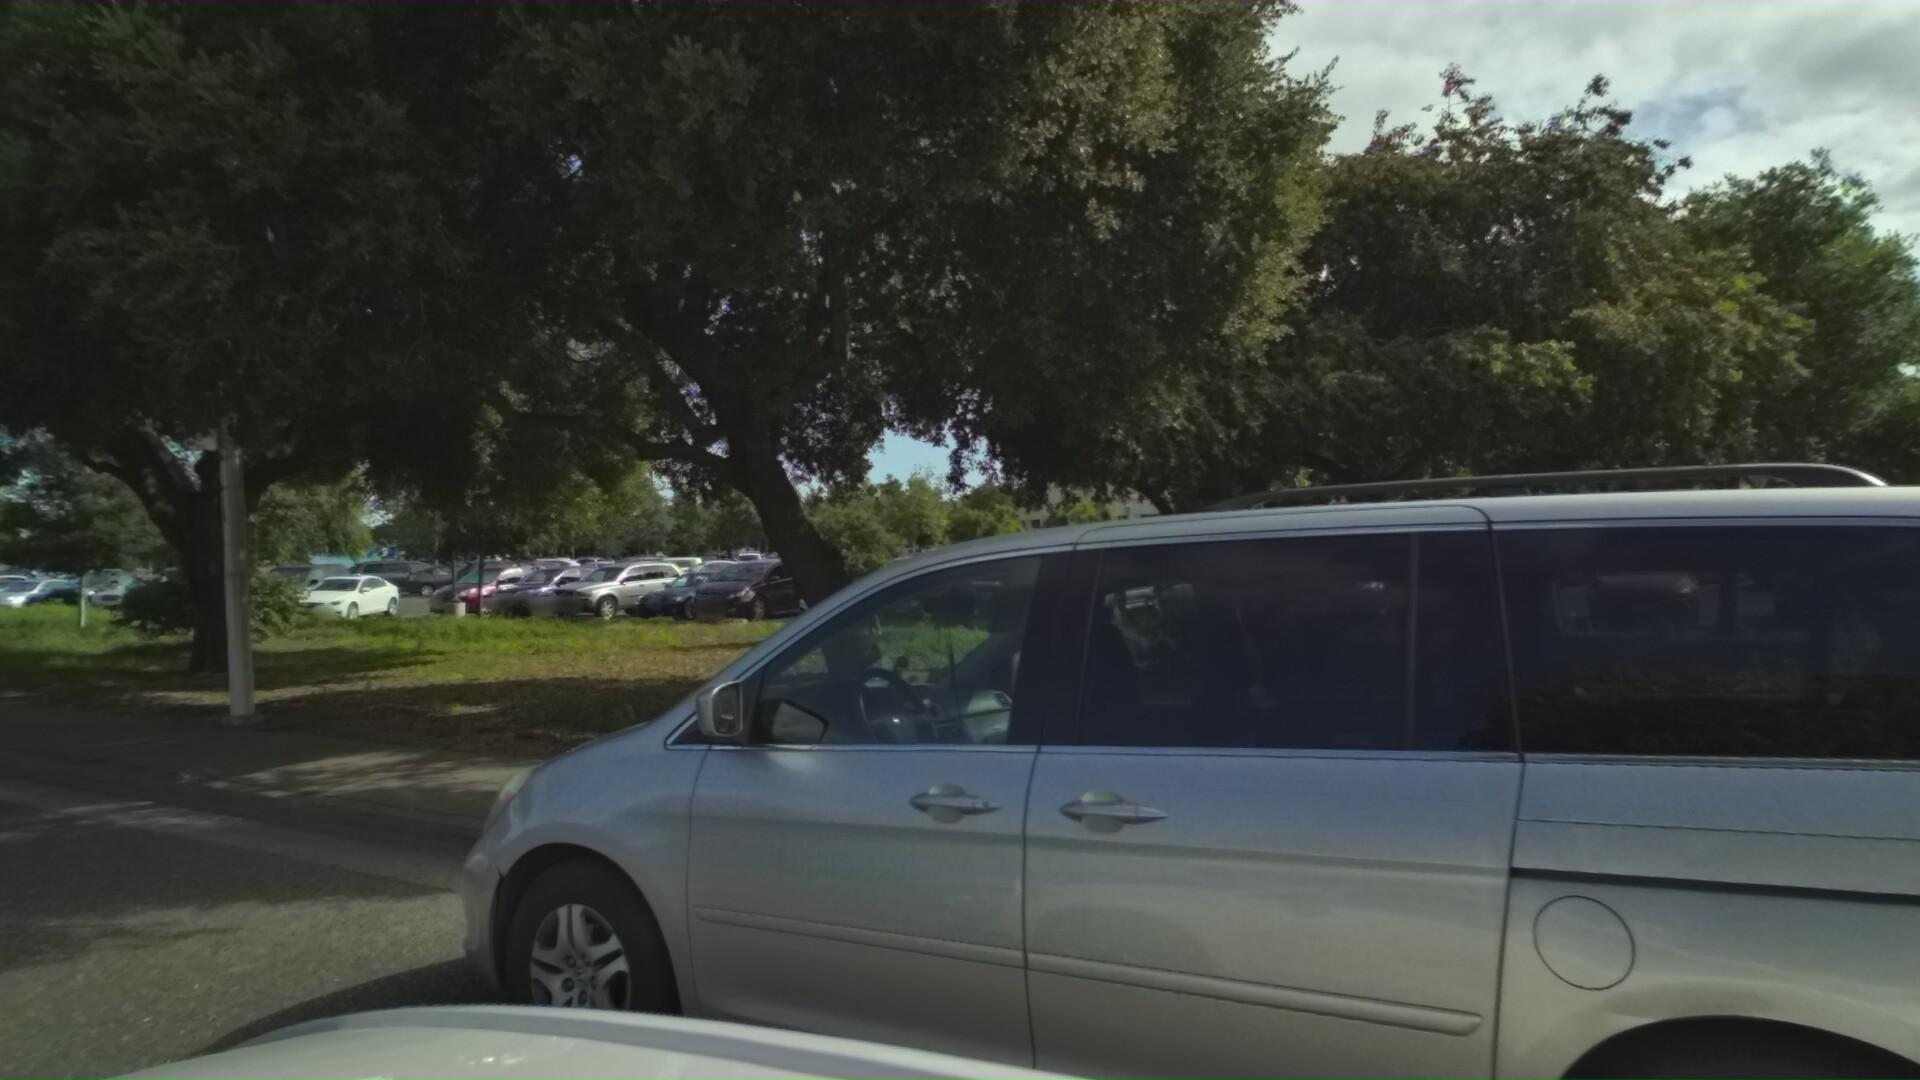car: (382, 359, 1920, 1080)
